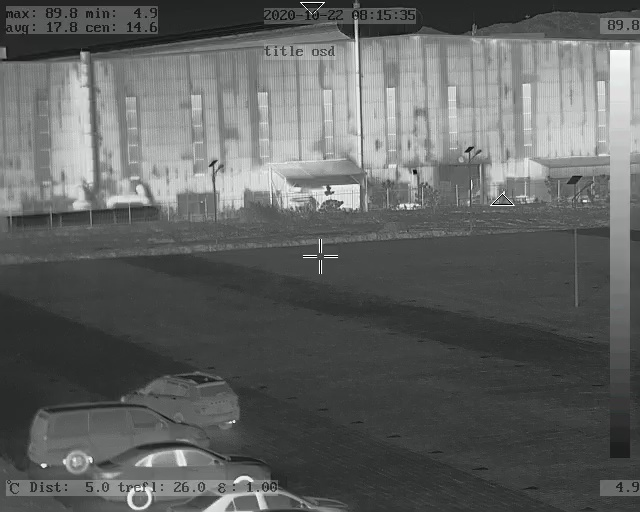vehicle: (13, 394, 248, 467), (73, 435, 269, 507), (179, 482, 349, 512), (134, 370, 238, 410)
